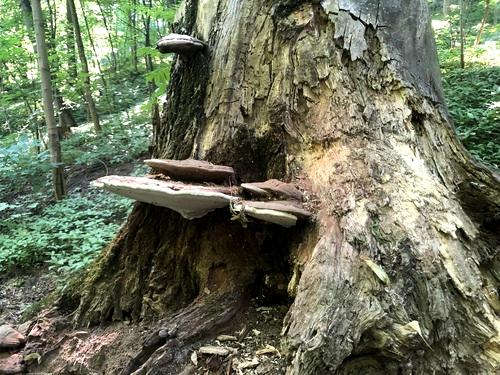Ganoderma - Fruit Body: (92, 179, 232, 220), (234, 201, 315, 234), (142, 154, 233, 181), (242, 175, 307, 198), (155, 31, 211, 57)
